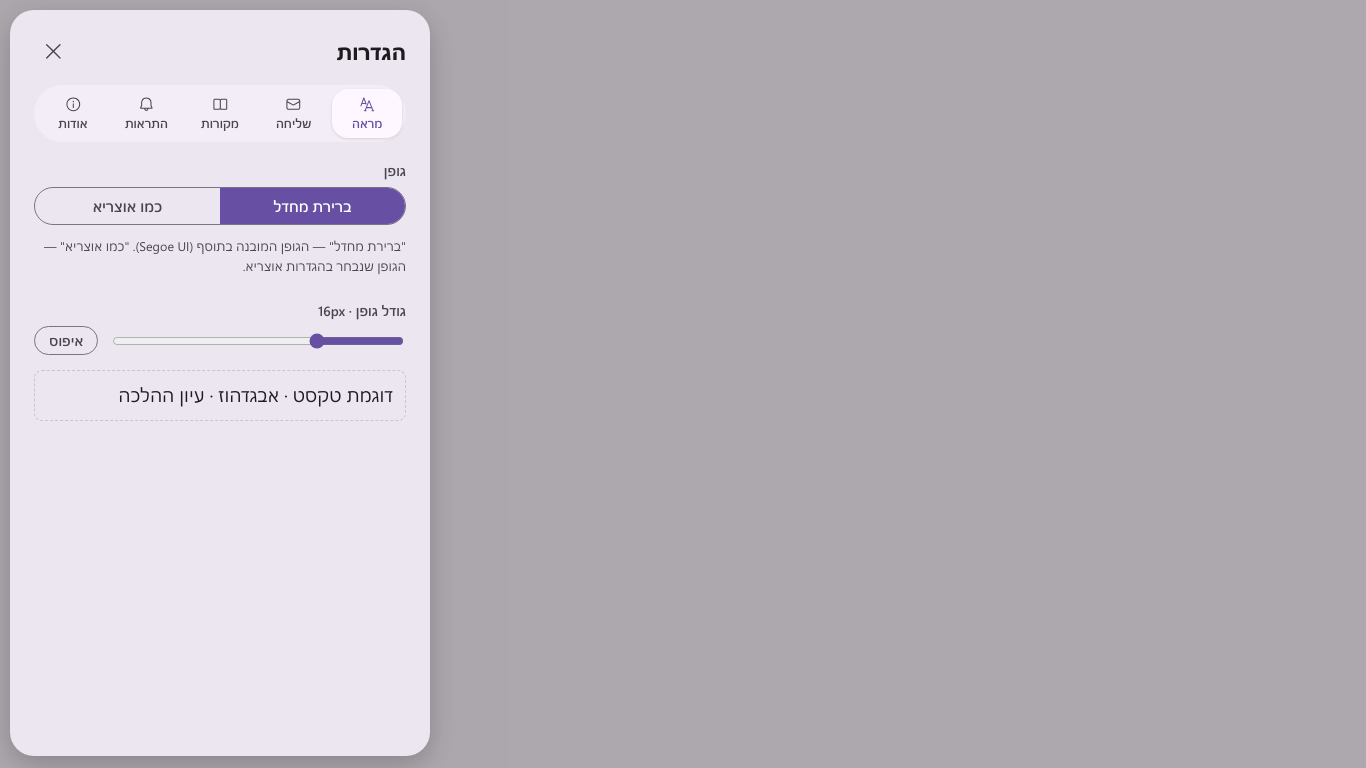
כרטיסיית מקורות › זיהוי אוטומטי מעדכן את כל הספרים שנמצאו
Click the button "מקורות": (220, 114) [185, 89, 255, 138]
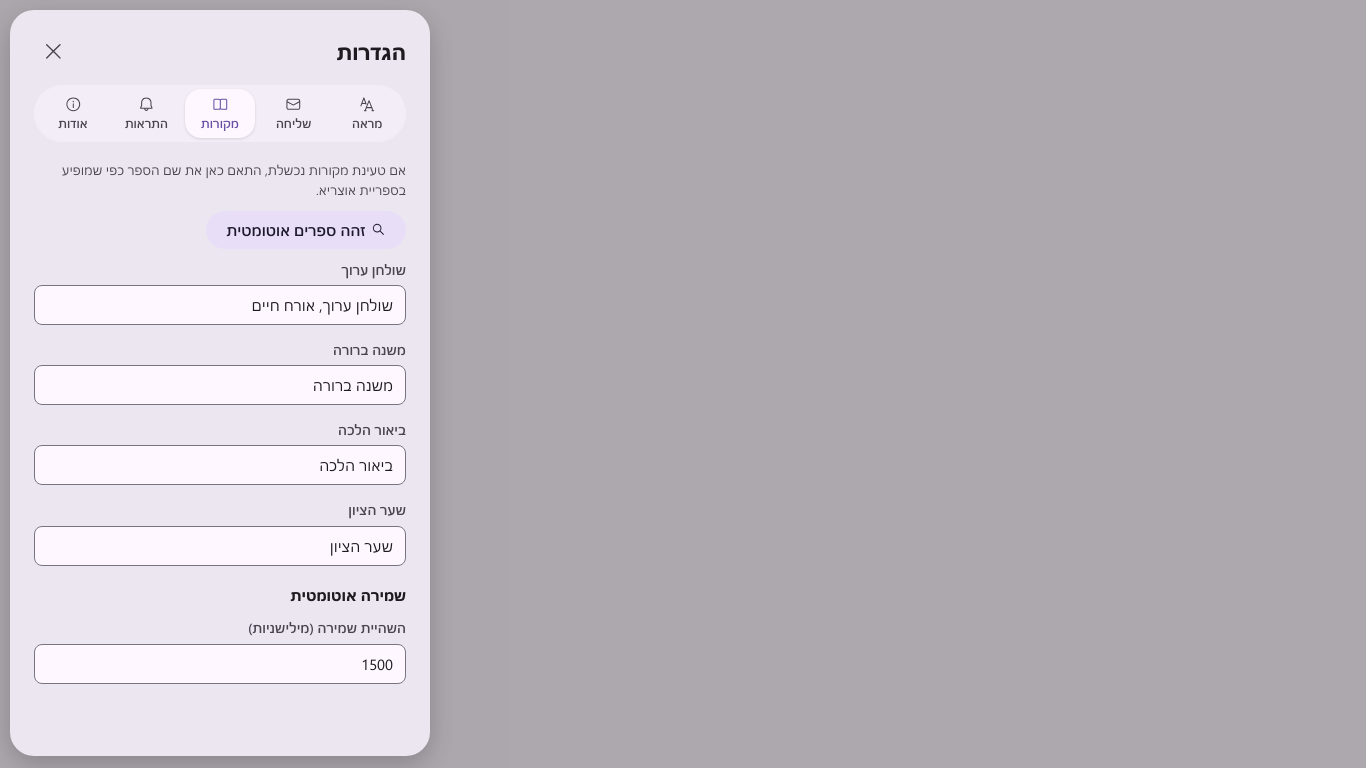
Click the button "זהה ספרים אוטומטית": (306, 230) [206, 211, 406, 249]
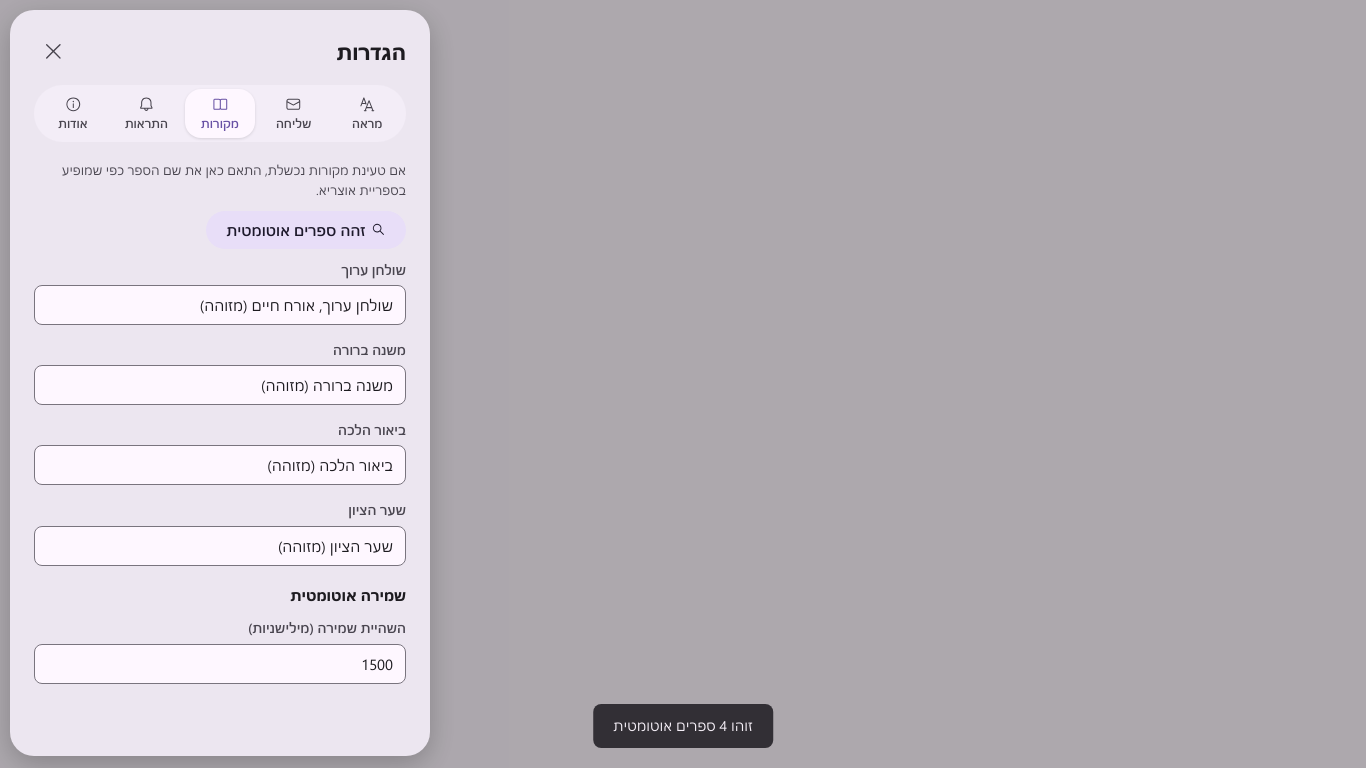
Now the message shows "זוהו 4 ספרים", box [613, 716, 753, 734]
